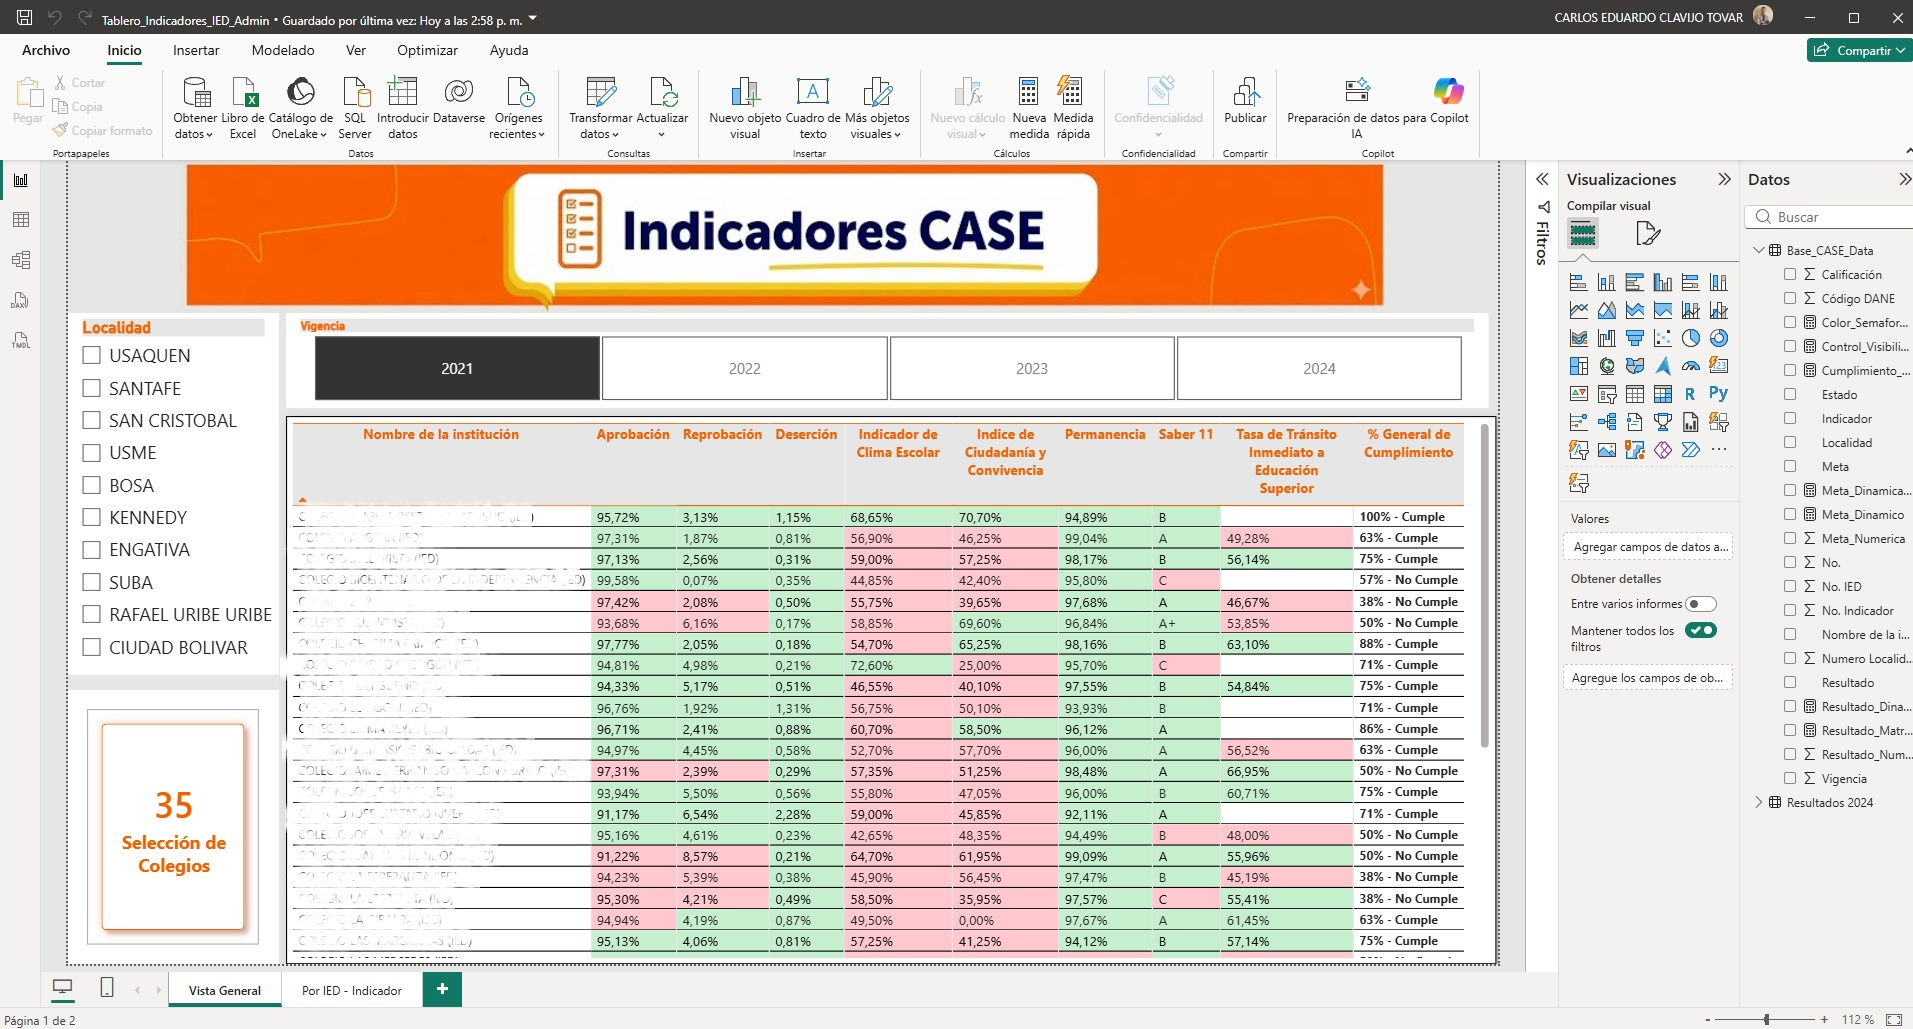

The page's visual inventory and layout, read from the dashboard file:
{"tool":"powerbi","page":{"name":"Vista General","canvas":[1280,720],"ordinal":0},"visuals":[{"type":"pivotTable","fields":{"Rows":["Base_CASE_Data.Nombre de la institución"],"Columns":["Base_CASE_Data.Indicador"],"Values":["Base_CASE_Data.Resultado_Matriz_CASE"]},"box":[195.2,229.3,1084.5,490.7],"z":0},{"type":"slicer","fields":{"Values":["Base_CASE_Data.Vigencia"]},"box":[195.2,137,1077.3,85.1],"z":1000},{"type":"slicer","fields":{"Values":["Base_CASE_Data.Localidad"]},"box":[0,137,189,324.2],"z":2000},{"type":"image","box":[0,0,1279.7,137],"z":3000},{"type":"cardVisual","fields":{"Data":["Count(Base_CASE_Data.Nombre de la institución)"]},"box":[0,474.6,189,245.4],"z":4000}]}

Visuals, with their boxes on the page's 1280x720 design canvas (x1, y1, x2, y2). These are canvas units, not pixel positions in the 1913x1029 screenshot, which may show the page scaled, cropped or inside an application window:
pivotTable - Base_CASE_Data.Nombre de la institución x Base_CASE_Data.Indicador: 195, 229, 1280, 720
slicer - Base_CASE_Data.Vigencia: 195, 137, 1272, 222
slicer - Base_CASE_Data.Localidad: 0, 137, 189, 461
image: 0, 0, 1280, 137
cardVisual - Count(Base_CASE_Data.Nombre de la institución): 0, 475, 189, 720
